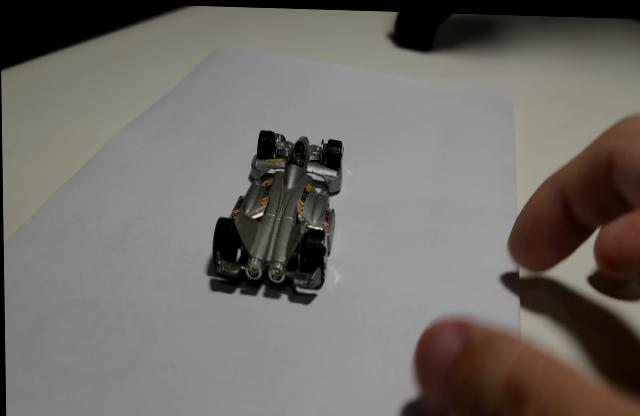05_DC121: (205, 130, 344, 296)
